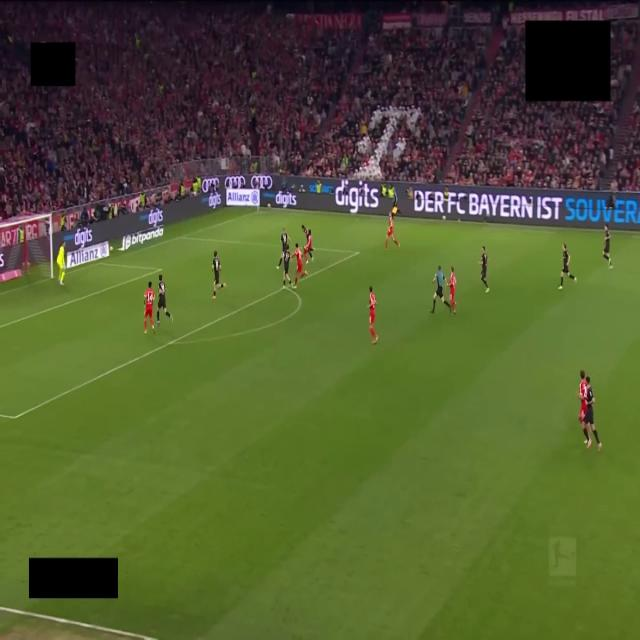player: (584, 376, 601, 450), (578, 370, 589, 444), (157, 275, 173, 325), (559, 243, 576, 289), (386, 190, 399, 249), (293, 244, 308, 288), (212, 251, 225, 299), (144, 281, 154, 333), (277, 228, 288, 269), (369, 287, 377, 343), (480, 246, 489, 293), (603, 225, 612, 269), (302, 225, 312, 263), (283, 245, 291, 287), (57, 243, 65, 285), (449, 266, 456, 313)
referee: (432, 265, 450, 313)
